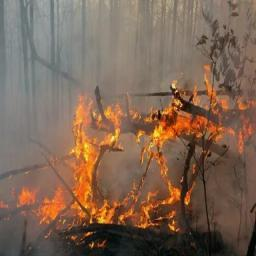Low smoke: (0, 0, 256, 256)
Small fire: (0, 65, 256, 256)
